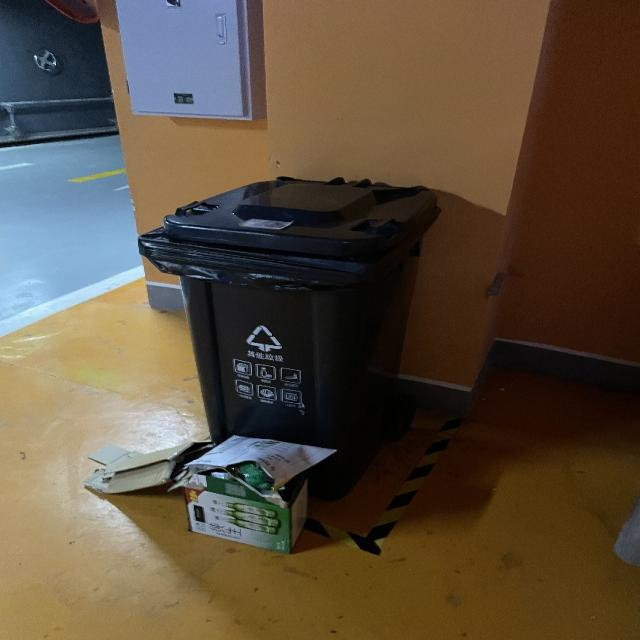garbage: (84, 433, 336, 554)
garbage_bin: (137, 174, 438, 507)
